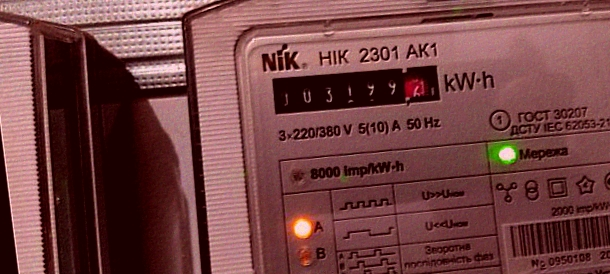0: (276, 86, 290, 108), (299, 83, 313, 104)
1: (342, 78, 355, 98)
3: (321, 83, 334, 104)
6: (410, 82, 422, 99)
9: (363, 76, 377, 97), (385, 76, 398, 96)
screen: (263, 52, 451, 128)
